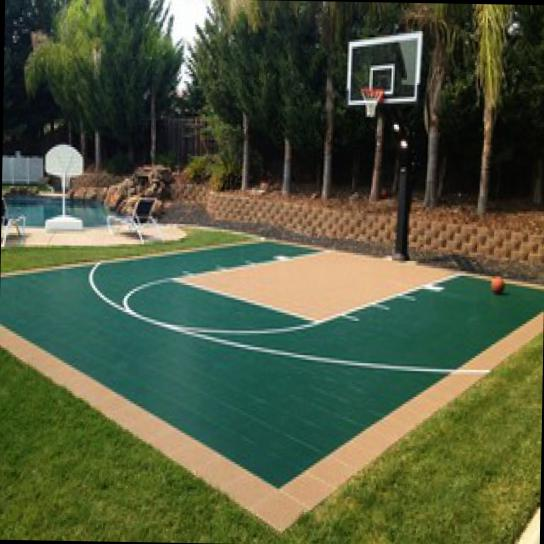basketball-hoop: (358, 86, 384, 119)
